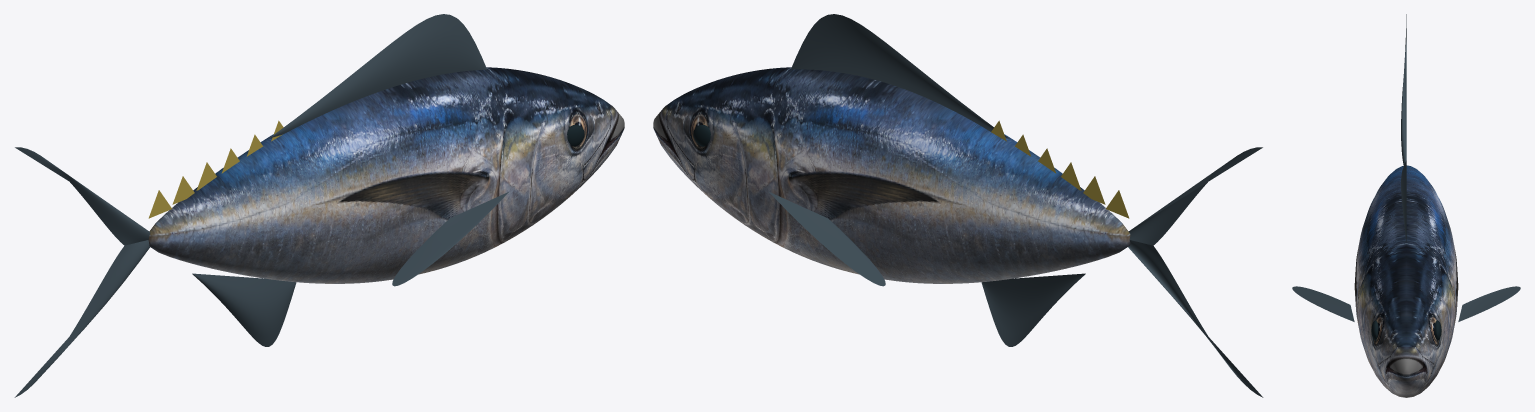
Rendered from tuna.glb.
The picture shows the model from 3 angles, left to right: view 1: azimuth 30°, elevation 25°; view 2: azimuth 150°, elevation 25°; view 3: azimuth 270°, elevation 25°; orthographic projection. The views are drawn at different scales.
Visible parts, largest first — view 1: tuna closed body, Fin dorsal, Fin anal, Fin pectoral.001, Fin caudal, Fin caudal.001; view 2: tuna closed body, Fin dorsal, Fin anal, Fin pectoral, Fin caudal.001, Fin caudal; view 3: tuna closed body, Fin pectoral, Fin pectoral.001, Fin caudal.001, Fin dorsal.
Boxes of the visible parts, left/top/right/bottom form: tuna closed body: left=148, top=67, right=624, bottom=283; Fin dorsal: left=268, top=14, right=486, bottom=138; Fin anal: left=192, top=273, right=296, bottom=346; Fin pectoral.001: left=392, top=192, right=508, bottom=286; Fin caudal: left=14, top=240, right=149, bottom=397; Fin caudal.001: left=15, top=147, right=150, bottom=245; tuna closed body: left=653, top=67, right=1130, bottom=283; Fin dorsal: left=791, top=14, right=1009, bottom=138; Fin anal: left=981, top=273, right=1085, bottom=346; Fin pectoral: left=769, top=192, right=885, bottom=286; Fin caudal.001: left=1128, top=147, right=1262, bottom=245; Fin caudal: left=1128, top=240, right=1263, bottom=397; tuna closed body: left=1354, top=165, right=1458, bottom=397; Fin pectoral: left=1458, top=286, right=1520, bottom=321; Fin pectoral.001: left=1292, top=286, right=1354, bottom=321; Fin caudal.001: left=1401, top=14, right=1406, bottom=165; Fin dorsal: left=1401, top=160, right=1406, bottom=241.
Size of the model in its own units: 1.27 by 0.5799 by 0.4849.
4 materials, 1 textured.
